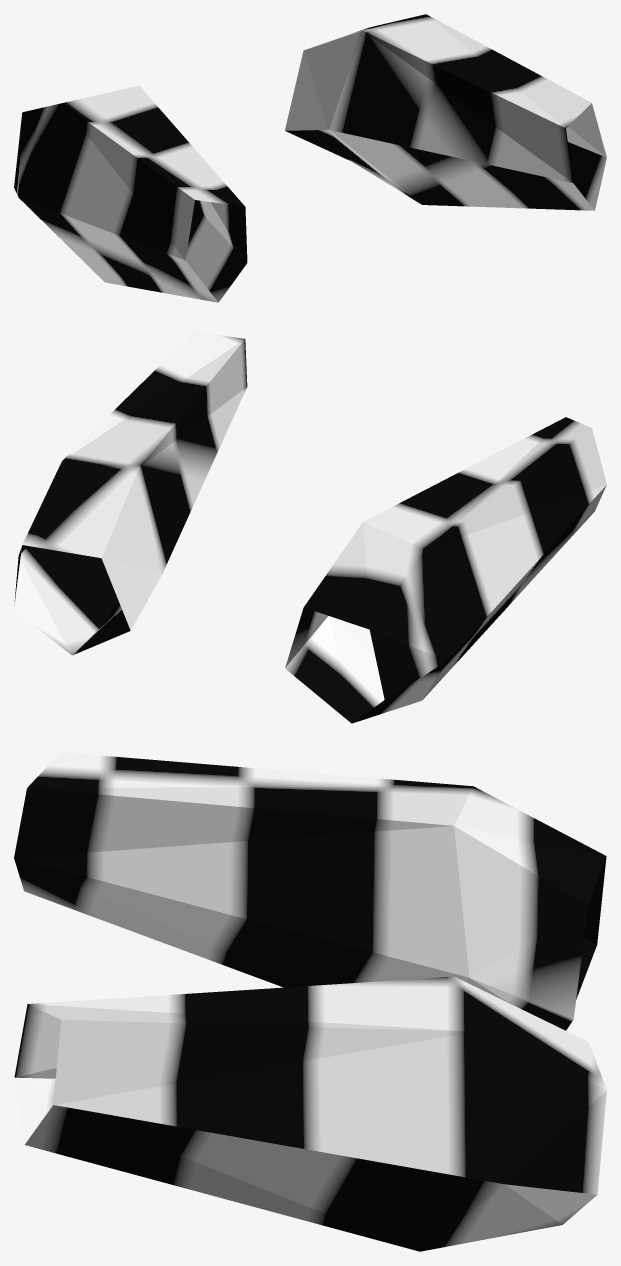
Rendered from initargl0.dae.
3 views of the same model, one above another, from view 1: azimuth 30°, elevation 25°; view 2: azimuth 150°, elevation 25°; view 3: azimuth 270°, elevation 25° (orthographic). The views are drawn at different scales.
Parts seen in each view (by area): view 1: armor; view 2: armor; view 3: armor.
Part boxes in pixels (x1,y1,x2,y2): armor: (14,14,606,302); armor: (14,331,606,723); armor: (14,752,606,1251).
Size of the model in its own units: 1.33 by 1.15 by 0.5541.
1 material, 1 textured.
